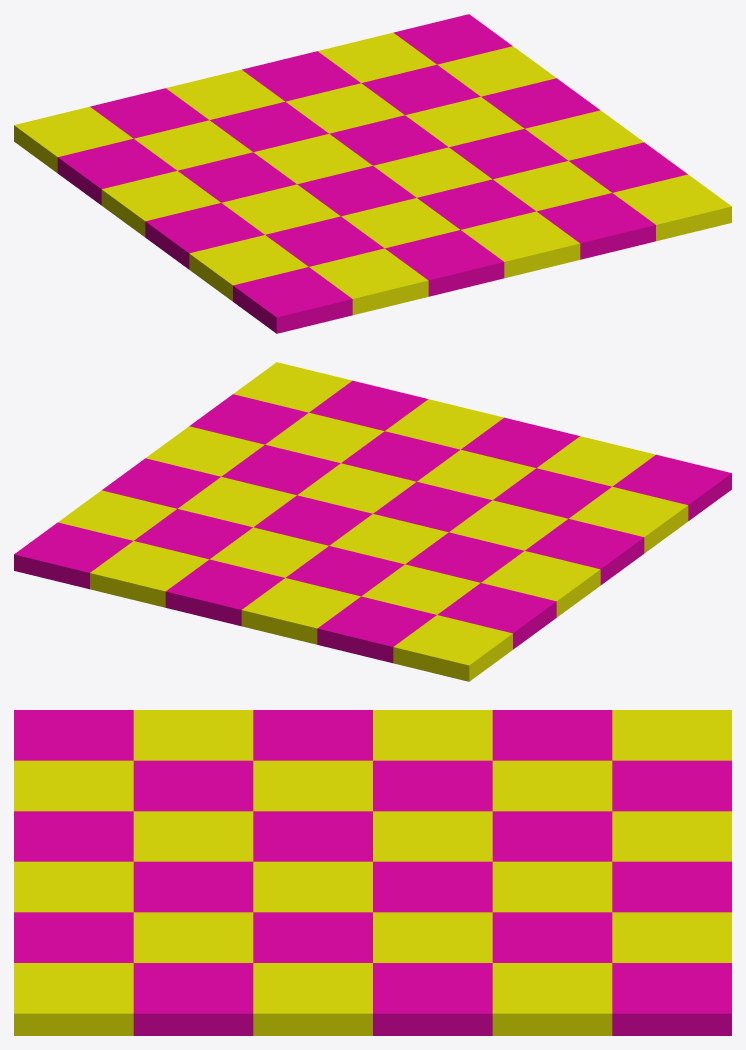
Rendered from szachownica1.glb.
3 views of the same model, one above another, from view 1: azimuth 30°, elevation 25°; view 2: azimuth 150°, elevation 25°; view 3: azimuth 270°, elevation 25° (orthographic). The views are drawn at different scales.
Visible parts, largest first — view 1: Plane; view 2: Plane; view 3: Plane.
Boxes of the visible parts, x1,y1,x2,y2 form: Plane: [14, 14, 731, 333]; Plane: [14, 362, 731, 681]; Plane: [14, 710, 731, 1035].
Size of the model in its own units: 20 by 0.6868 by 20.
